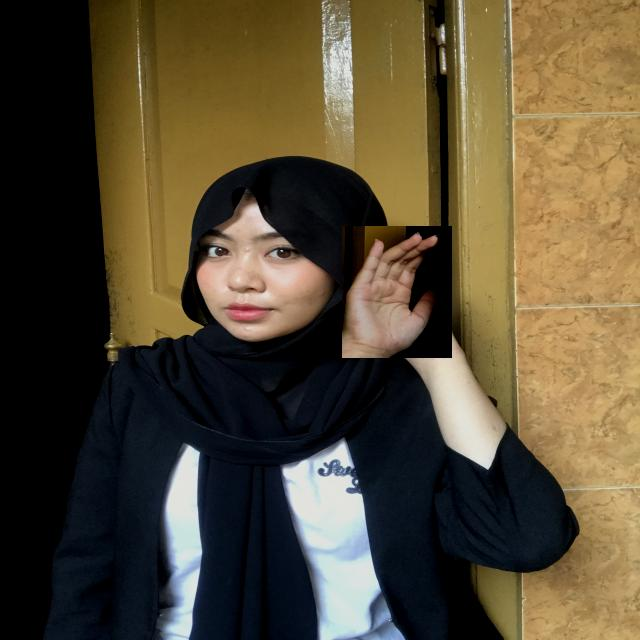mendengar: (342, 226, 452, 358)
